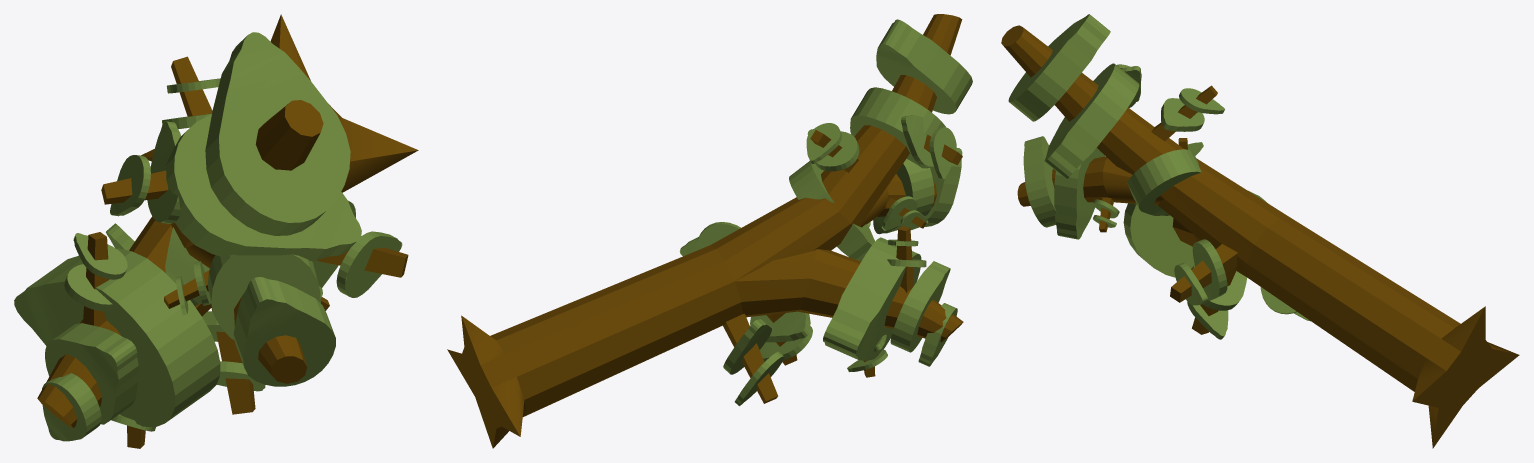
Rendered from TREE 1.obj.
3 views of the same model, side by side, from view 1: azimuth 30°, elevation 25°; view 2: azimuth 150°, elevation 25°; view 3: azimuth 270°, elevation 25° (orthographic). The views are drawn at different scales.
Parts seen in each view (by area): view 1: TREE 1; view 2: TREE 1; view 3: TREE 1.
Boxes of the visible parts, x1=… form: TREE 1: x1=14, y1=14, x2=418, y2=448; TREE 1: x1=447, y1=14, x2=972, y2=448; TREE 1: x1=1001, y1=14, x2=1519, y2=448.
Bounding box in the file's own units: 0.5305 × 0.4647 × 0.6605.
